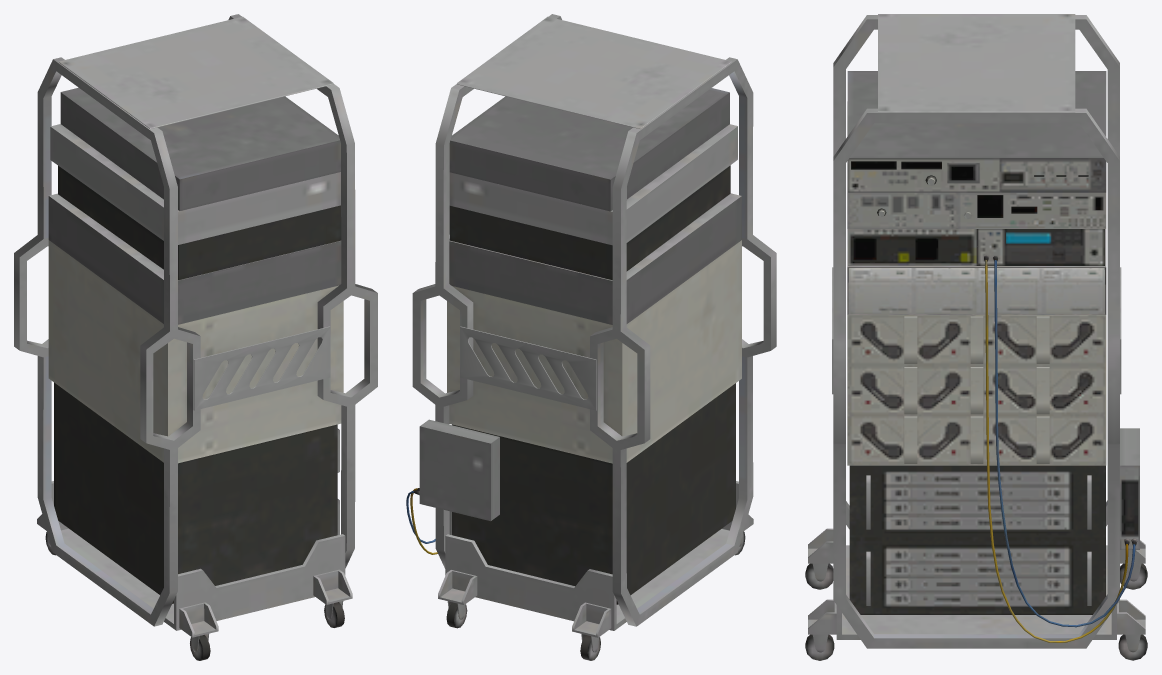
The model's file is sm23_006_dataprocessor01a.fbx.
3 renders of one model, left to right at view 1: azimuth 30°, elevation 25°; view 2: azimuth 150°, elevation 25°; view 3: azimuth 270°, elevation 25°, orthographic. The views are drawn at different scales.
Visible parts, largest first — view 1: LOD_1_Group_1_Sub_1__sm23_006_DataProcessor01A_A_Mat__Env_De, LOD_1_Group_2_Sub_1__sm23_006_DataProcessor01A_A_Mat__Env_De, LOD_1_Group_3_Sub_1__sm23_006_DataProcessor01A_A_Mat__Env_De, LOD_1_Group_0_Sub_1__sm23_006_DataProcessor01A_A_Mat__Env_De; view 2: LOD_1_Group_2_Sub_1__sm23_006_DataProcessor01A_A_Mat__Env_De, LOD_1_Group_1_Sub_1__sm23_006_DataProcessor01A_A_Mat__Env_De, LOD_1_Group_3_Sub_1__sm23_006_DataProcessor01A_A_Mat__Env_De, LOD_1_Group_0_Sub_1__sm23_006_DataProcessor01A_A_Mat__Env_De; view 3: LOD_1_Group_1_Sub_1__sm23_006_DataProcessor01A_A_Mat__Env_De, LOD_1_Group_2_Sub_1__sm23_006_DataProcessor01A_A_Mat__Env_De, LOD_1_Group_3_Sub_1__sm23_006_DataProcessor01A_A_Mat__Env_De, LOD_1_Group_0_Sub_1__sm23_006_DataProcessor01A_A_Mat__Env_De.
Part boxes in pixels (x1,y1,x2,y2): LOD_1_Group_1_Sub_1__sm23_006_DataProcessor01A_A_Mat__Env_De: (48, 87, 341, 603); LOD_1_Group_2_Sub_1__sm23_006_DataProcessor01A_A_Mat__Env_De: (47, 16, 345, 651); LOD_1_Group_3_Sub_1__sm23_006_DataProcessor01A_A_Mat__Env_De: (14, 14, 377, 660); LOD_1_Group_0_Sub_1__sm23_006_DataProcessor01A_A_Mat__Env_De: (58, 165, 341, 410); LOD_1_Group_2_Sub_1__sm23_006_DataProcessor01A_A_Mat__Env_De: (445, 16, 743, 652); LOD_1_Group_1_Sub_1__sm23_006_DataProcessor01A_A_Mat__Env_De: (449, 88, 741, 604); LOD_1_Group_3_Sub_1__sm23_006_DataProcessor01A_A_Mat__Env_De: (412, 14, 776, 660); LOD_1_Group_0_Sub_1__sm23_006_DataProcessor01A_A_Mat__Env_De: (406, 165, 730, 554); LOD_1_Group_1_Sub_1__sm23_006_DataProcessor01A_A_Mat__Env_De: (847, 71, 1106, 614); LOD_1_Group_2_Sub_1__sm23_006_DataProcessor01A_A_Mat__Env_De: (812, 14, 1141, 652); LOD_1_Group_3_Sub_1__sm23_006_DataProcessor01A_A_Mat__Env_De: (805, 15, 1147, 660); LOD_1_Group_0_Sub_1__sm23_006_DataProcessor01A_A_Mat__Env_De: (832, 229, 1139, 642).
Size of the model in its own units: 0.6453 by 1.37 by 0.757.
